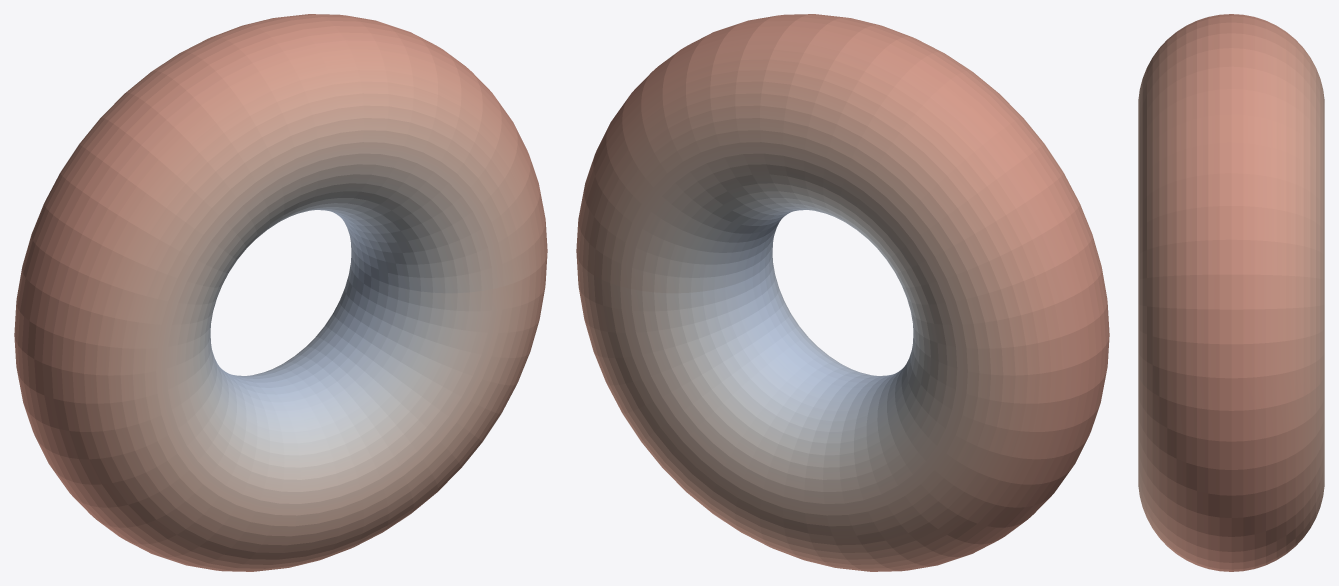
The picture shows the model from 3 angles, left to right: view 1: azimuth 30°, elevation 25°; view 2: azimuth 150°, elevation 25°; view 3: azimuth 270°, elevation 25°; orthographic projection. The views are drawn at different scales.
Visible parts, largest first — view 1: world; view 2: world; view 3: world.
Boxes of the visible parts, x1,y1,x2,y2 form: world: (14, 14, 547, 571); world: (576, 14, 1109, 571); world: (1138, 14, 1324, 571).
Size of the model in its own units: 25.07 by 25.02 by 8.38.
